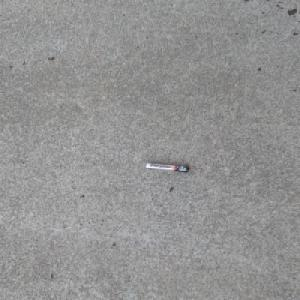Battery: (145, 162, 190, 172)
